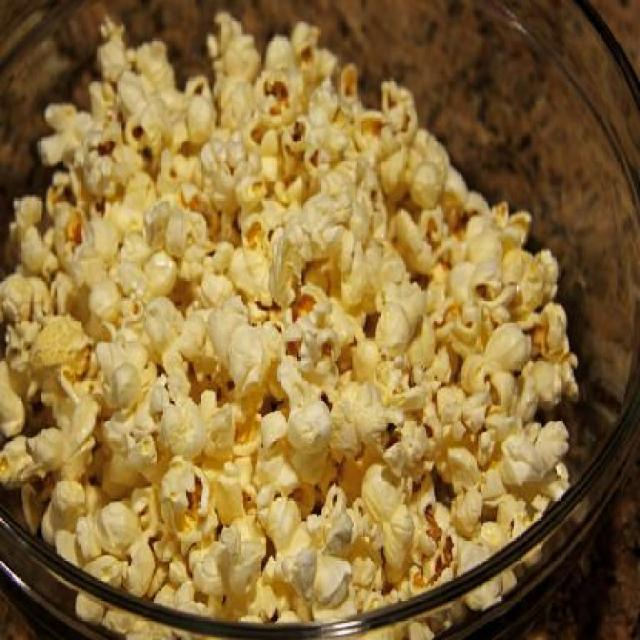Popcorn: (0, 6, 578, 639)
